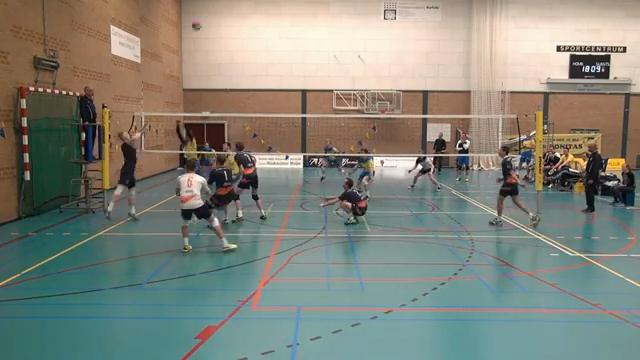Attack: (100, 118, 152, 227)
Player: (176, 159, 236, 251), (489, 146, 539, 225), (234, 142, 266, 219), (208, 154, 242, 223), (320, 178, 367, 224), (176, 120, 200, 173), (408, 155, 440, 191), (357, 148, 374, 197), (320, 139, 338, 180), (224, 154, 240, 182)
ball: (189, 22, 203, 31)
